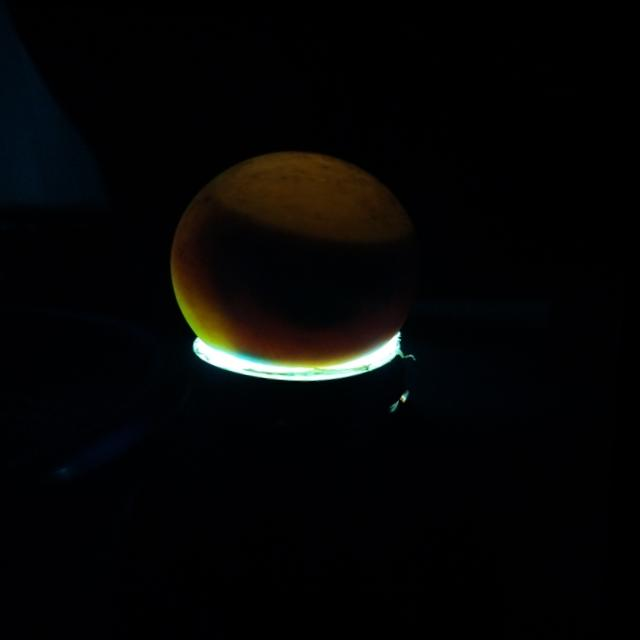Area Infectada: (176, 194, 426, 329)
